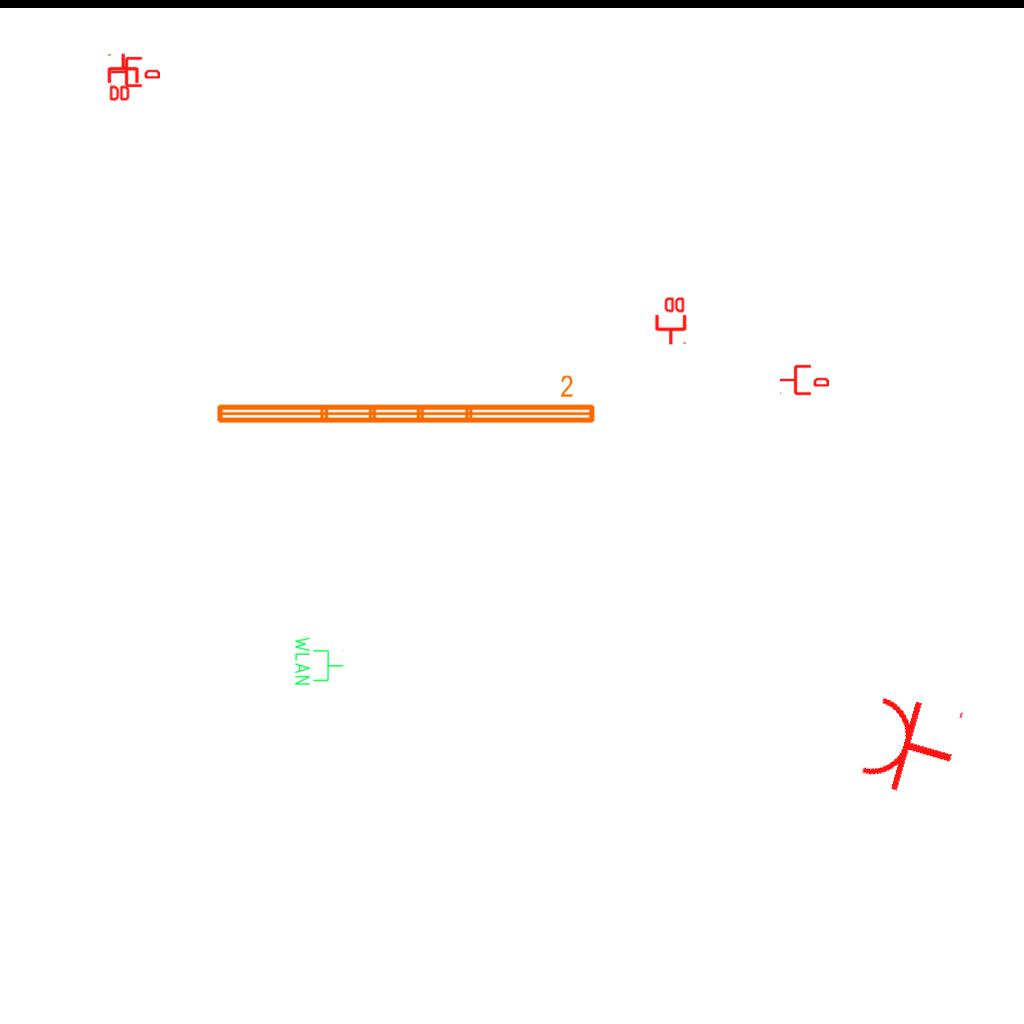Ambulanz_Pendelleuchte_LED: (212, 373, 599, 429)
Datenanschluss_einfach: (779, 363, 829, 397), (110, 55, 160, 89)
Datenanschluss_zweifach: (653, 295, 687, 346), (107, 52, 141, 103)
Schukosteckdose_einfach: (855, 684, 968, 806)
WLAN: (293, 635, 345, 687)
